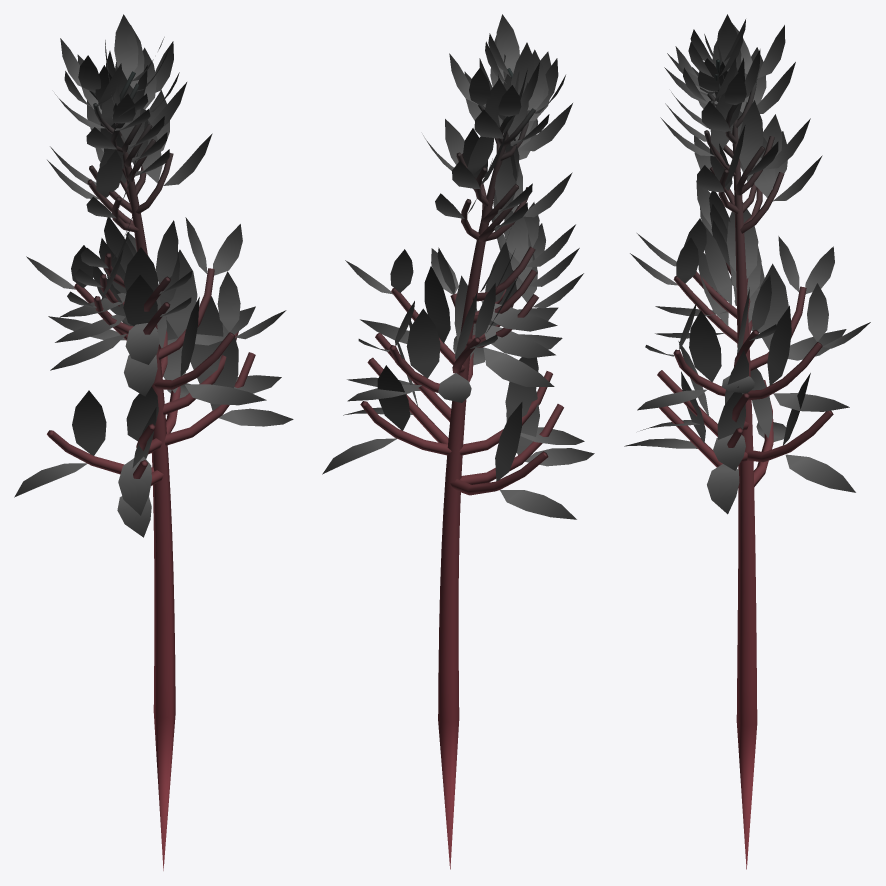
File: plants-bushes-twigs-leafy-twig_v2.glb
The picture shows the model from 3 angles, left to right: view 1: azimuth 30°, elevation 25°; view 2: azimuth 150°, elevation 25°; view 3: azimuth 270°, elevation 25°; orthographic projection. The views are drawn at different scales.
Parts seen in each view (by area): view 1: Leafy Twig_v2; view 2: Leafy Twig_v2; view 3: Leafy Twig_v2.
Boxes of the visible parts, x1,y1,x2,y2 form: Leafy Twig_v2: (14,14,293,870); Leafy Twig_v2: (322,14,594,869); Leafy Twig_v2: (624,14,870,869).
Bounding box in the file's own units: 0.1883 × 0.6 × 0.1616.
